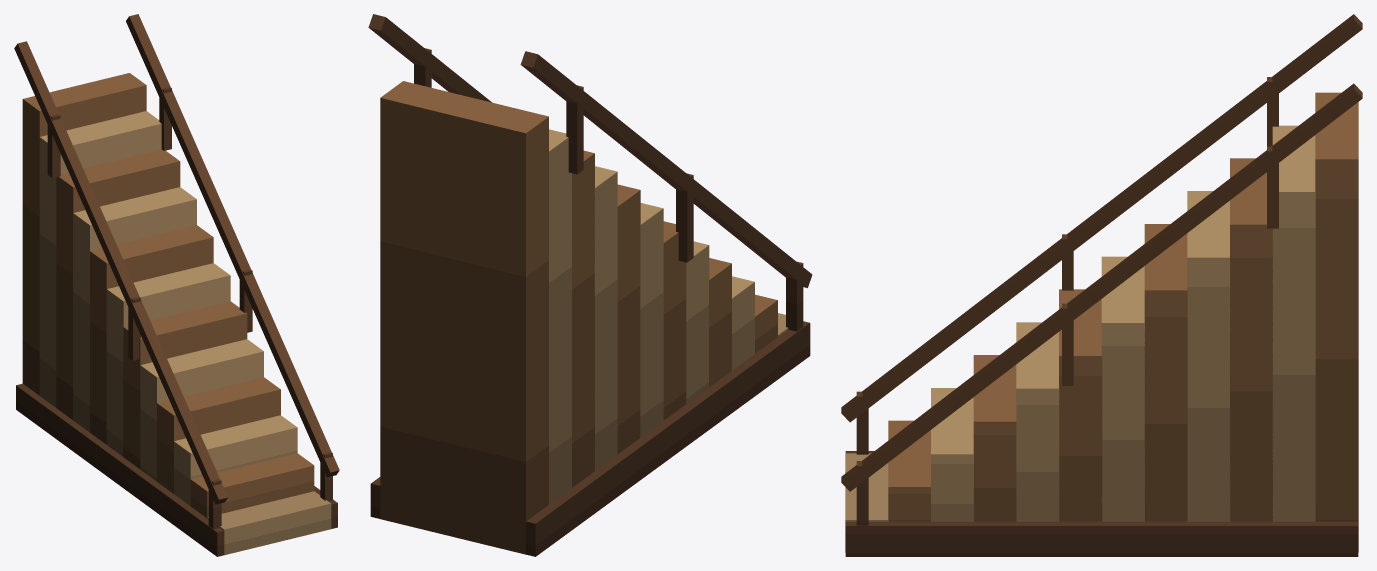
The model's file is slope_wood.glb.
3 views of the same model, side by side, from view 1: azimuth 30°, elevation 25°; view 2: azimuth 150°, elevation 25°; view 3: azimuth 270°, elevation 25° (orthographic). The views are drawn at different scales.
Bounding box in the file's own units: 1.04 × 3.02 × 3.05.
1 material, 1 textured.
